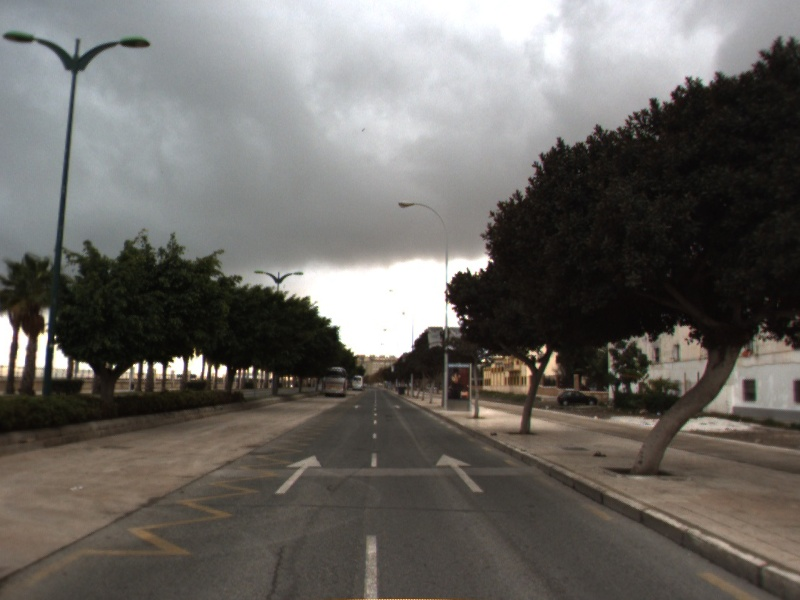STRAIGHT: (435, 451, 487, 494), (273, 453, 325, 496)
